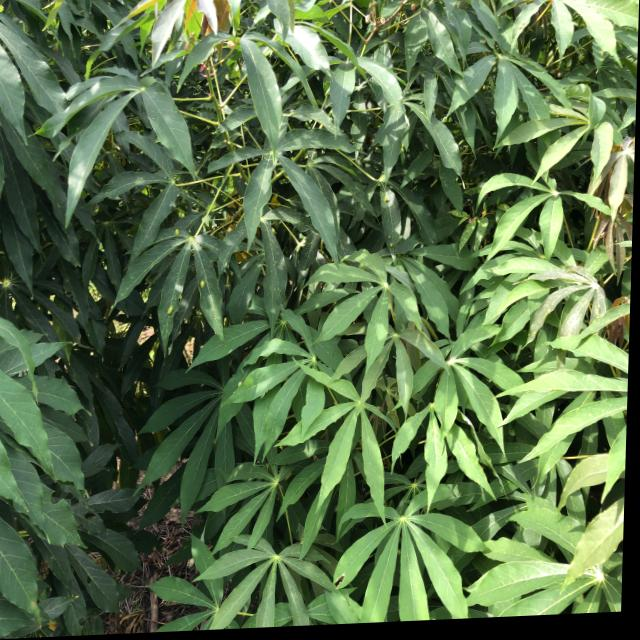Mosca: (194, 275, 209, 292), (164, 302, 177, 321), (170, 225, 183, 243)
